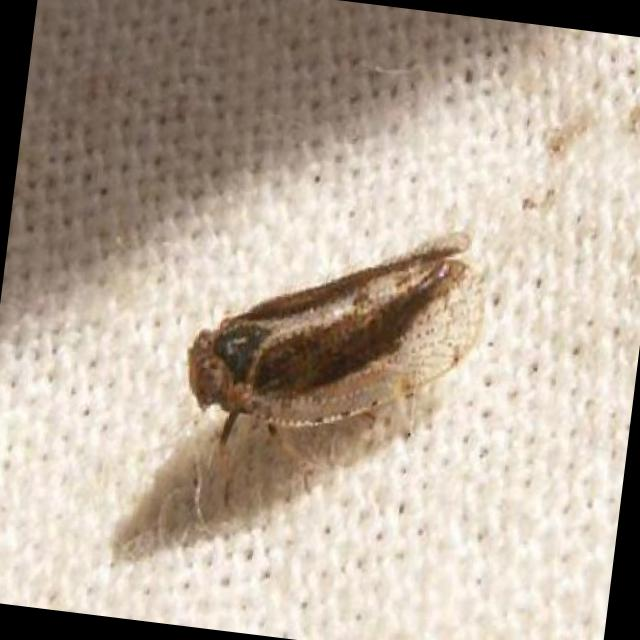brown-planthopper: (176, 190, 493, 472)
